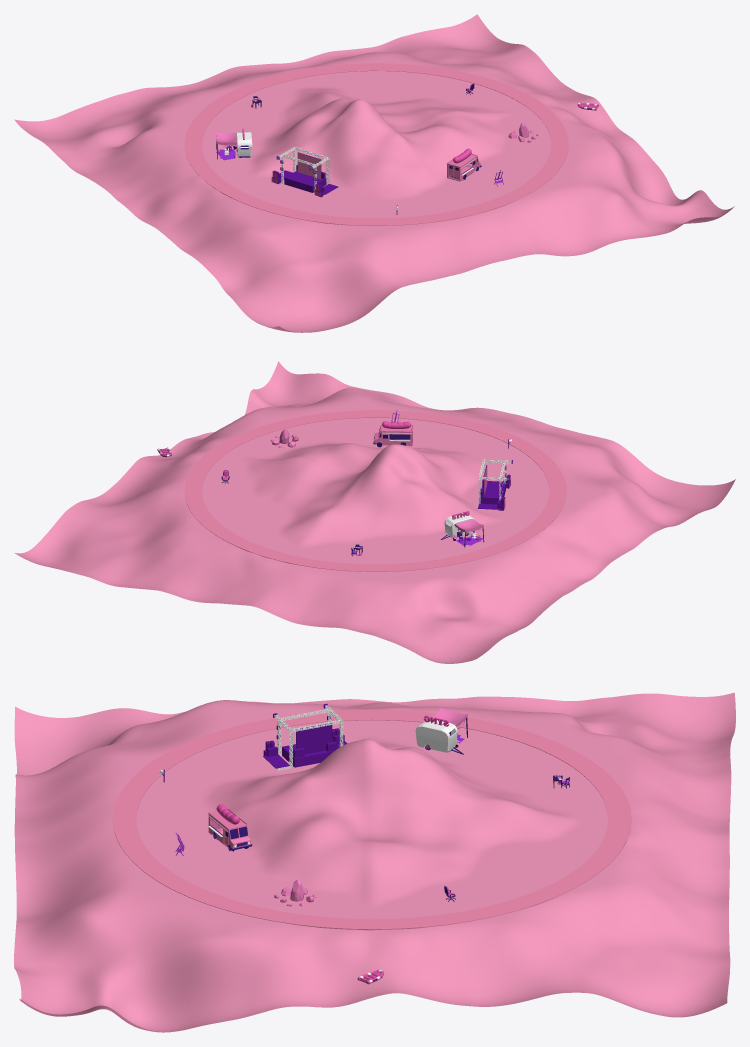
Rendered from island.glb.
3 renders of one model, top to bottom at view 1: azimuth 30°, elevation 25°; view 2: azimuth 150°, elevation 25°; view 3: azimuth 270°, elevation 25°, orthographic. The views are drawn at different scales.
Parts seen in each view (by area): view 1: Landscape, Street, TRUCK_Cube.004, STAGEmodul_Cube; view 2: Landscape, Street, TRUCK_Cube.004; view 3: Landscape, Street, Camper1_Mesh.006, TRUCK_Cube.004, Philips_PM5544_(SECAM_variation), STAGEmodul_Cube.
Boxes of the visible parts, x1,y1,x2,y2 form: Landscape: (14,14,734,332); Street: (184,63,568,225); TRUCK_Cube.004: (447,153,480,181); STAGEmodul_Cube: (284,171,326,192); Landscape: (15,361,735,663); Street: (184,410,566,571); TRUCK_Cube.004: (374,424,412,446); Landscape: (14,692,735,1032); Street: (112,710,631,930); Camper1_Mesh.006: (415,719,463,754); TRUCK_Cube.004: (208,808,250,848); Philips_PM5544_(SECAM_variation): (296,723,332,754); STAGEmodul_Cube: (282,744,334,767).
Size of what is drawn, in the model's own units: 34.68 by 7.41 by 34.26.
